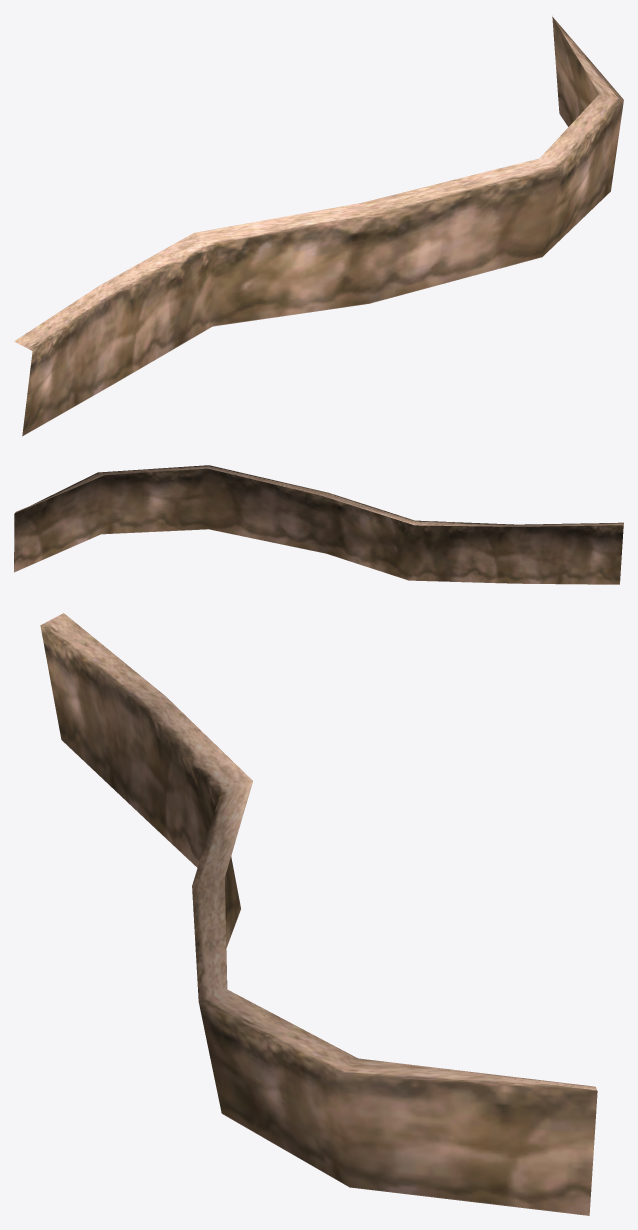
Rendered from EKH_CAVERNS_PS_CA_EDGE_GRAB93847.fbx.
3 views of the same model, one above another, from view 1: azimuth 30°, elevation 25°; view 2: azimuth 150°, elevation 25°; view 3: azimuth 270°, elevation 25° (orthographic). The views are drawn at different scales.
Visible parts, largest first — view 1: EKH_CAVERNS_PS_CA_EDGE_GRAB93847; view 2: EKH_CAVERNS_PS_CA_EDGE_GRAB93847; view 3: EKH_CAVERNS_PS_CA_EDGE_GRAB93847.
Boxes of the visible parts, x1,y1,x2,y2 form: EKH_CAVERNS_PS_CA_EDGE_GRAB93847: [14, 16, 623, 436]; EKH_CAVERNS_PS_CA_EDGE_GRAB93847: [14, 465, 623, 584]; EKH_CAVERNS_PS_CA_EDGE_GRAB93847: [40, 613, 597, 1215].
Bounding box in the file's own units: 44924 × 6096 × 22651.
Materials: 1 (1 with a texture image).
